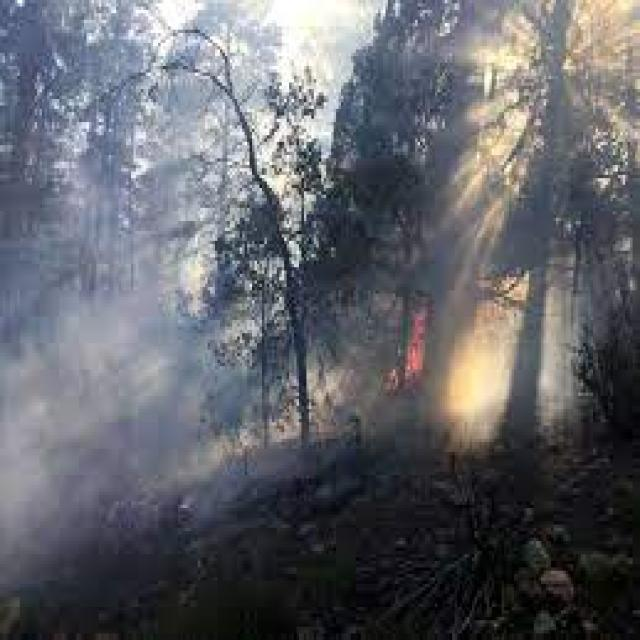Smoke: (0, 235, 173, 578)
